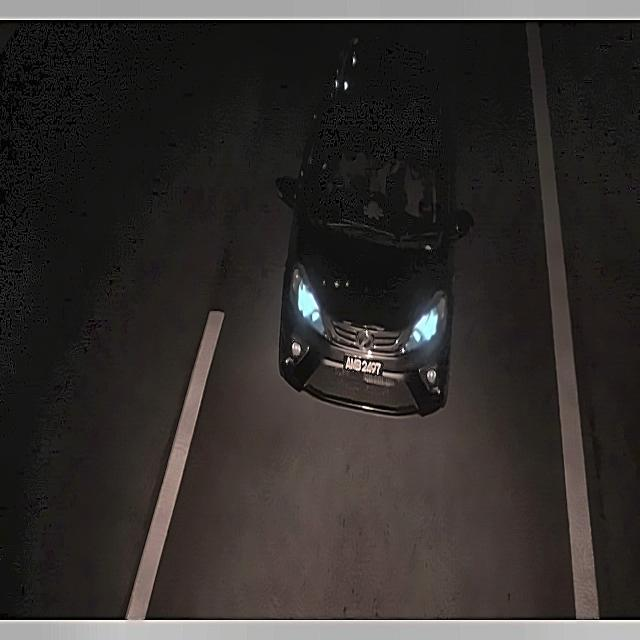car: (341, 349, 386, 382)
